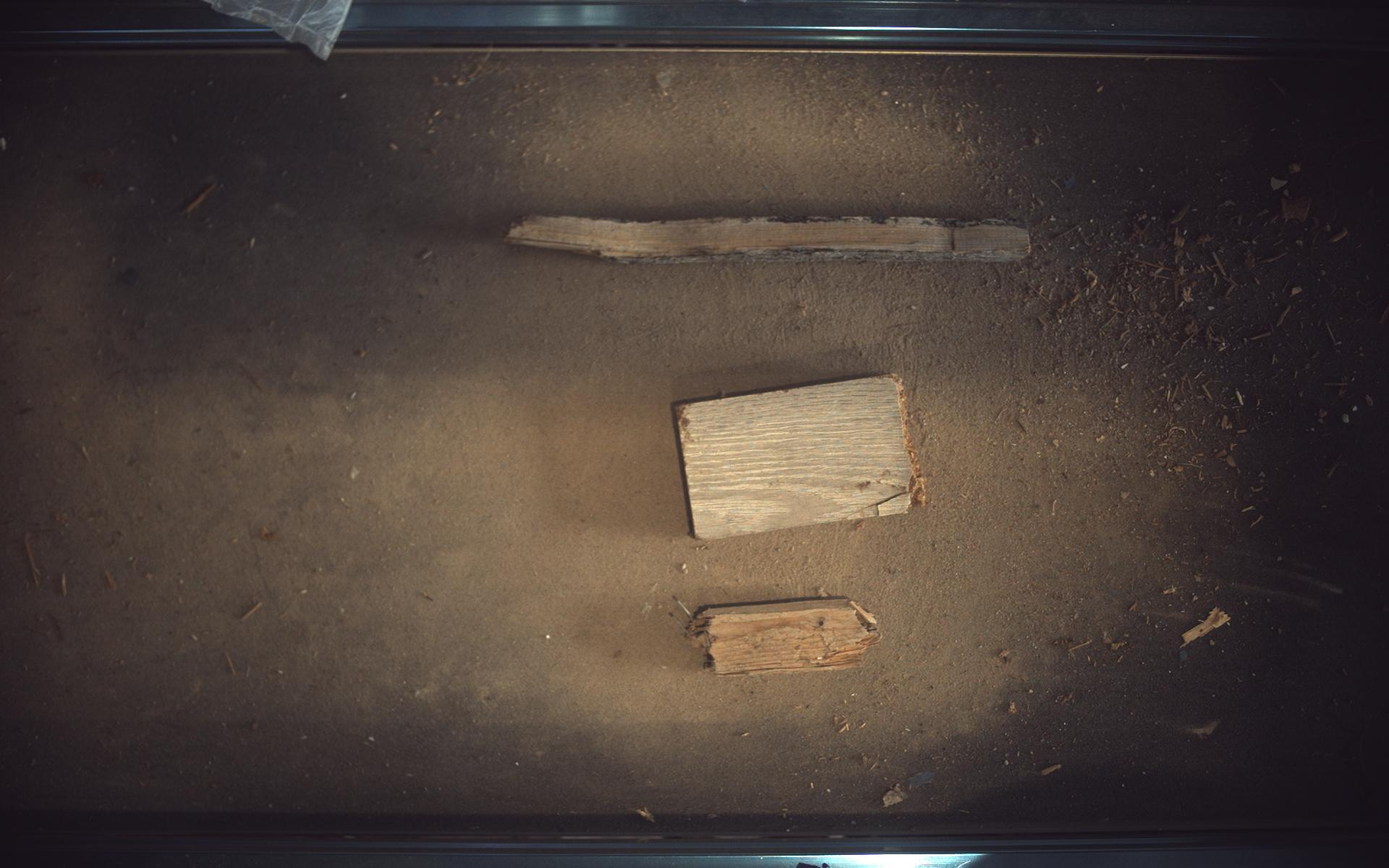wood: (675, 374, 927, 540), (507, 215, 1032, 261), (688, 598, 882, 676)
